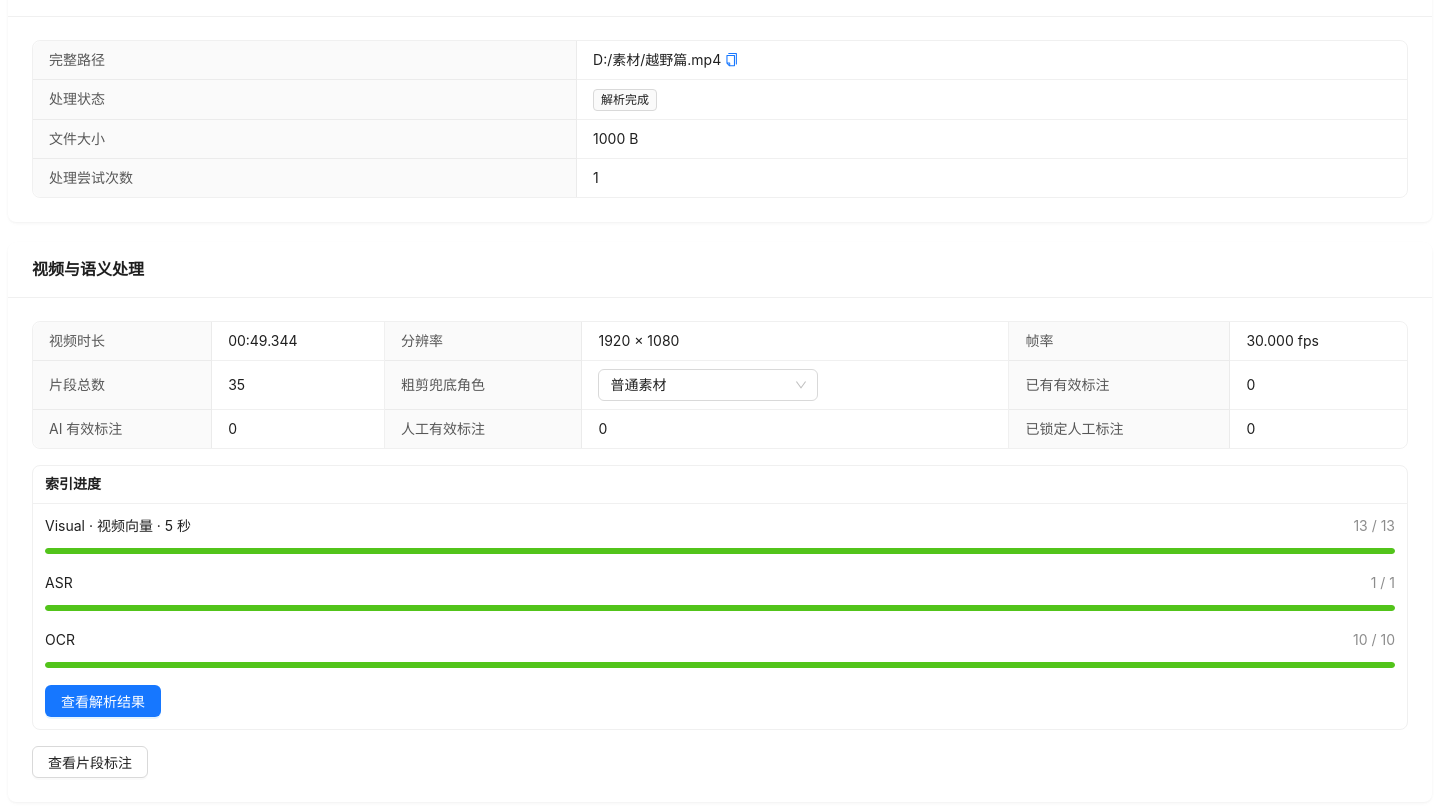
Test: index results › opens from current progress and loads only selected source/pages; retains raw OCR as text
The image size is (1440, 810).
(page scrolled)
Check: the text "13 / 13" is shown, box [1353, 517, 1395, 534]
Check: the text "1 / 1" is shown, box [1371, 574, 1395, 591]
What coordinates should you click on to do the following:
click the link "查看解析结果"
I would click on:
 (103, 701)
Its box is [45, 685, 161, 717].
(page scrolled)
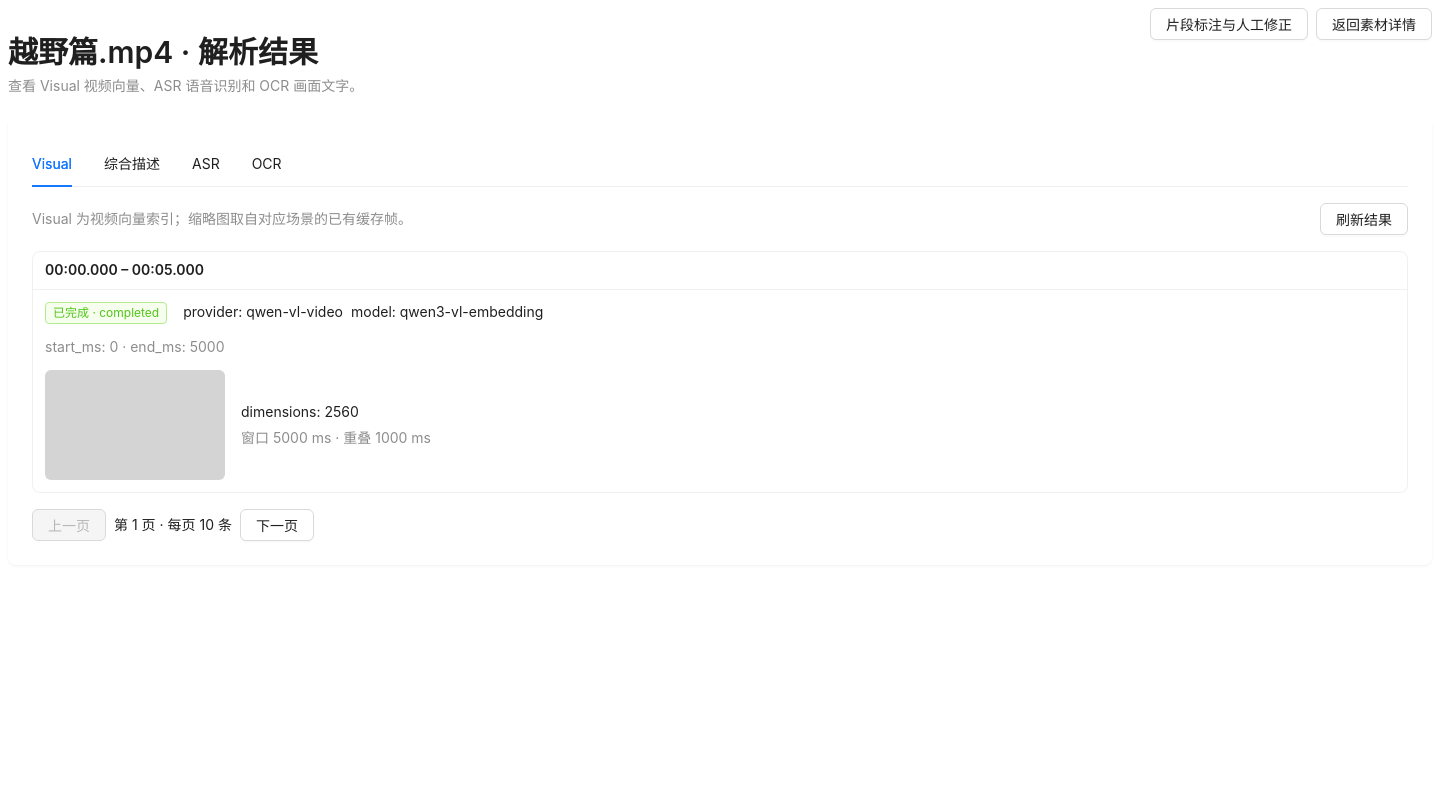
Check: the text "dimensions: 2560" is shown, box [241, 403, 359, 420]
What coordinates should you click on to do the following:
click the button "下一页"
I would click on:
 (277, 525)
Its box is [240, 509, 314, 541].
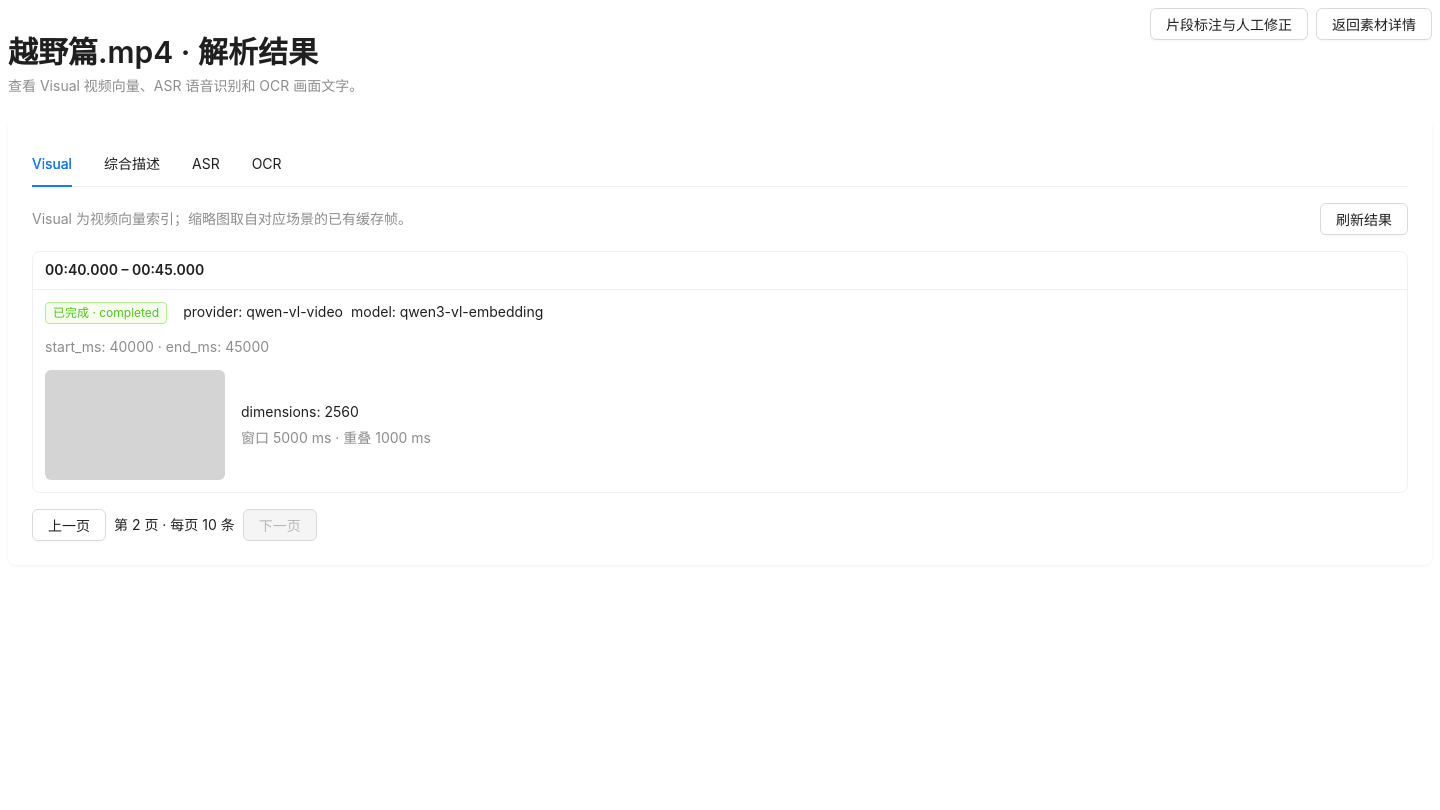
What coordinates should you click on to do the following:
click the tab "综合描述"
I would click on:
 (132, 164)
Its box is [104, 153, 160, 175].
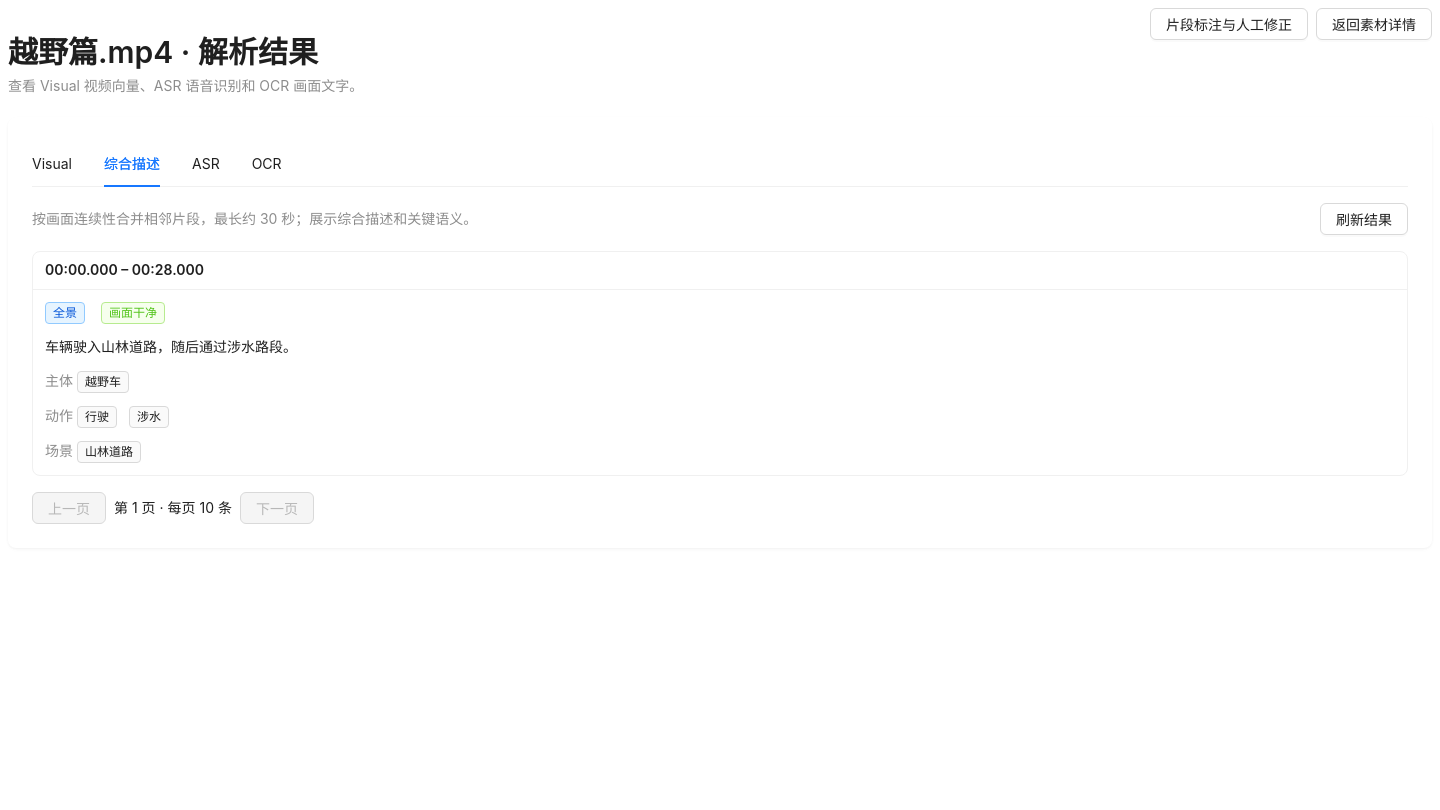
Check: the text "车辆驶入山林道路，随后通过涉水路段。" is shown, box [45, 338, 297, 355]
Check: the text "越野车" is shown, box [77, 371, 129, 393]
Check: the text "涉水" is shown, box [129, 406, 169, 428]
What coordinates should you click on to do the following:
click the tab "ASR"
I would click on:
 (206, 164)
Its box is [192, 153, 220, 175].
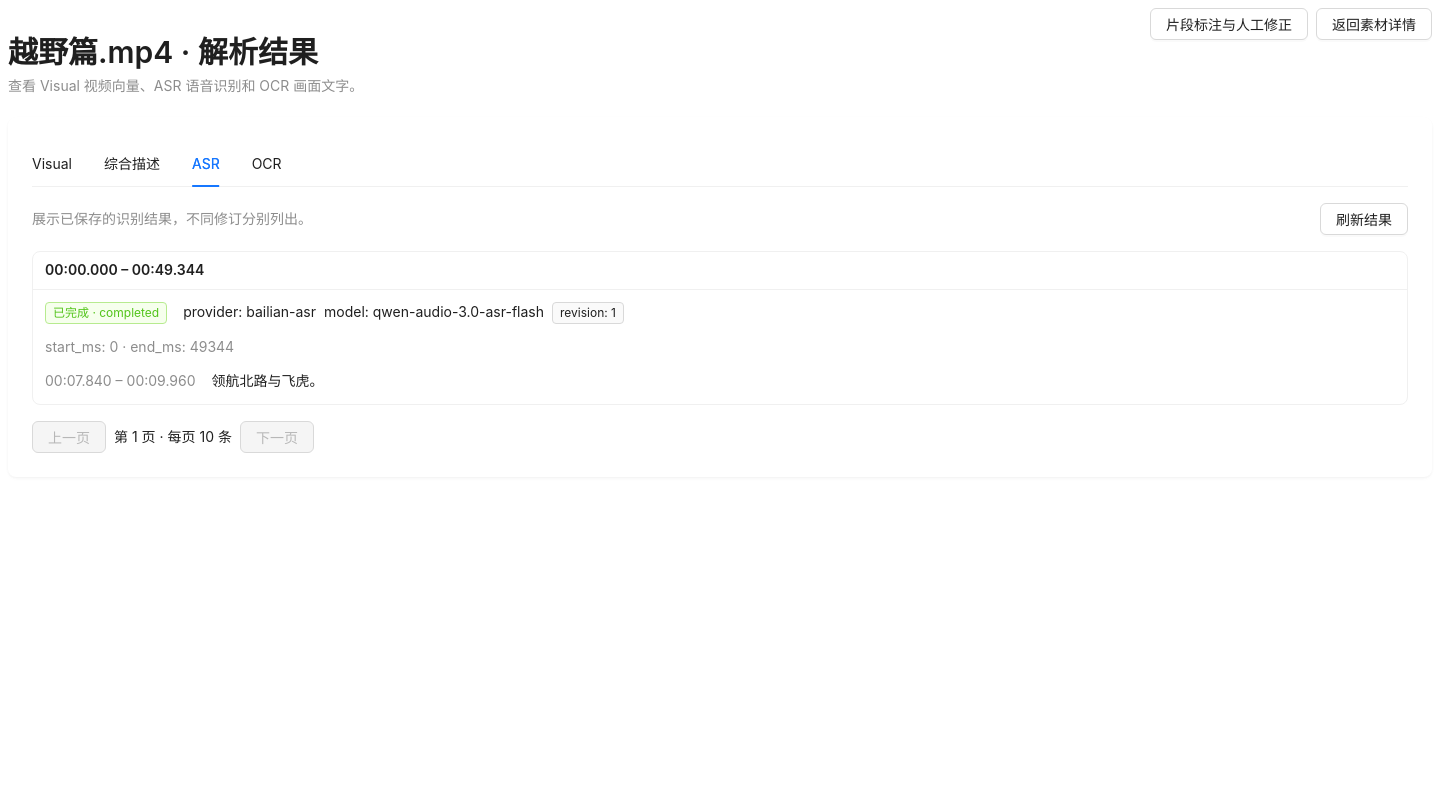
Check: the text "领航北路与飞虎。" is shown, box [212, 370, 324, 392]
Check: the text "00:07.840 – 00:09.960" is shown, box [45, 370, 196, 392]
What coordinates should you click on to do the following:
click the tab "OCR"
I would click on:
 (267, 164)
Its box is [252, 153, 282, 175].
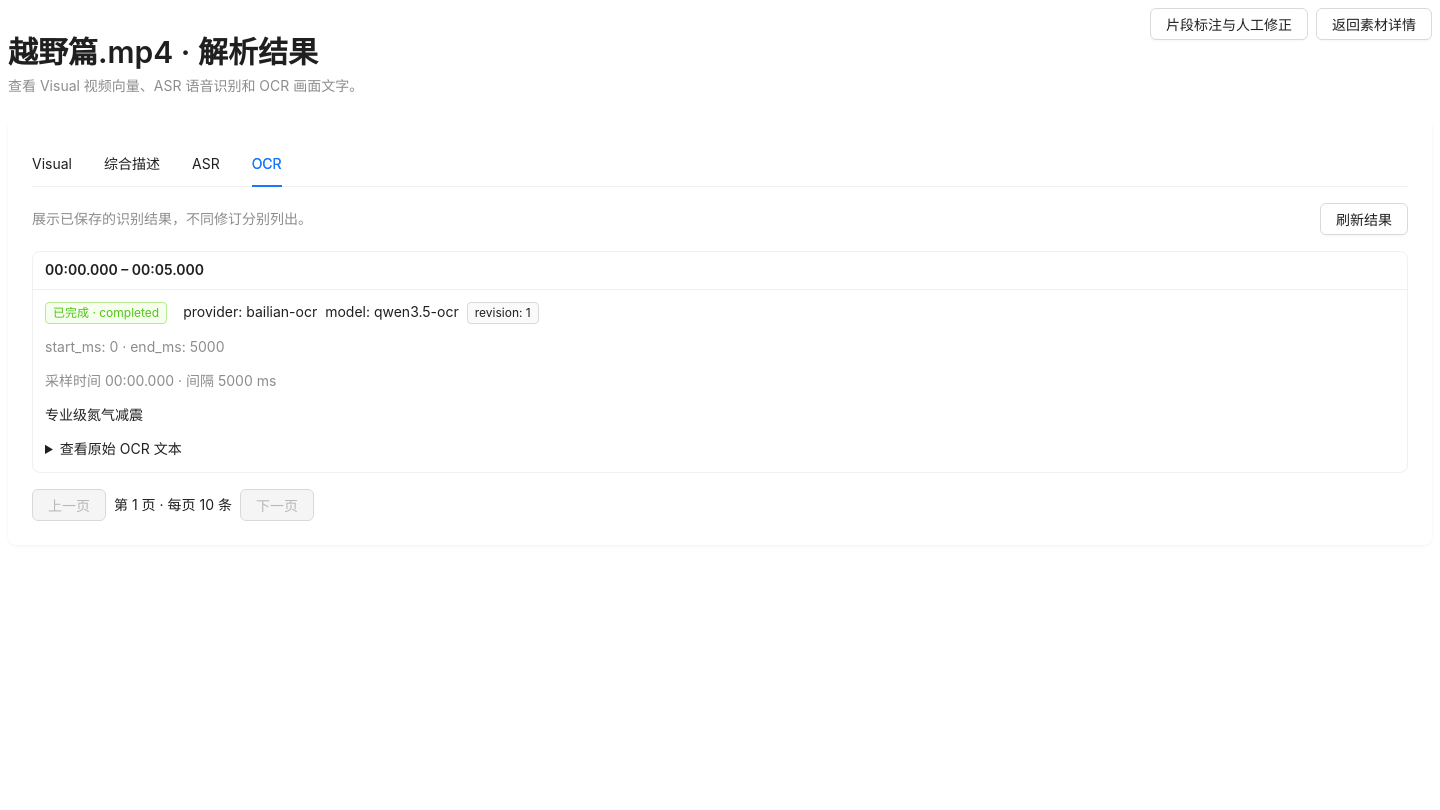
Check: the text "<p>专业级氮气减震</p><script>alert(1)</script>" is not shown
Check: the text "专业级氮气减震" is shown, box [45, 406, 143, 423]
What coordinates should you click on to do the following:
click the heading "查看原始 OCR 文本"
I would click on:
 (121, 448)
Its box is [60, 440, 182, 457].
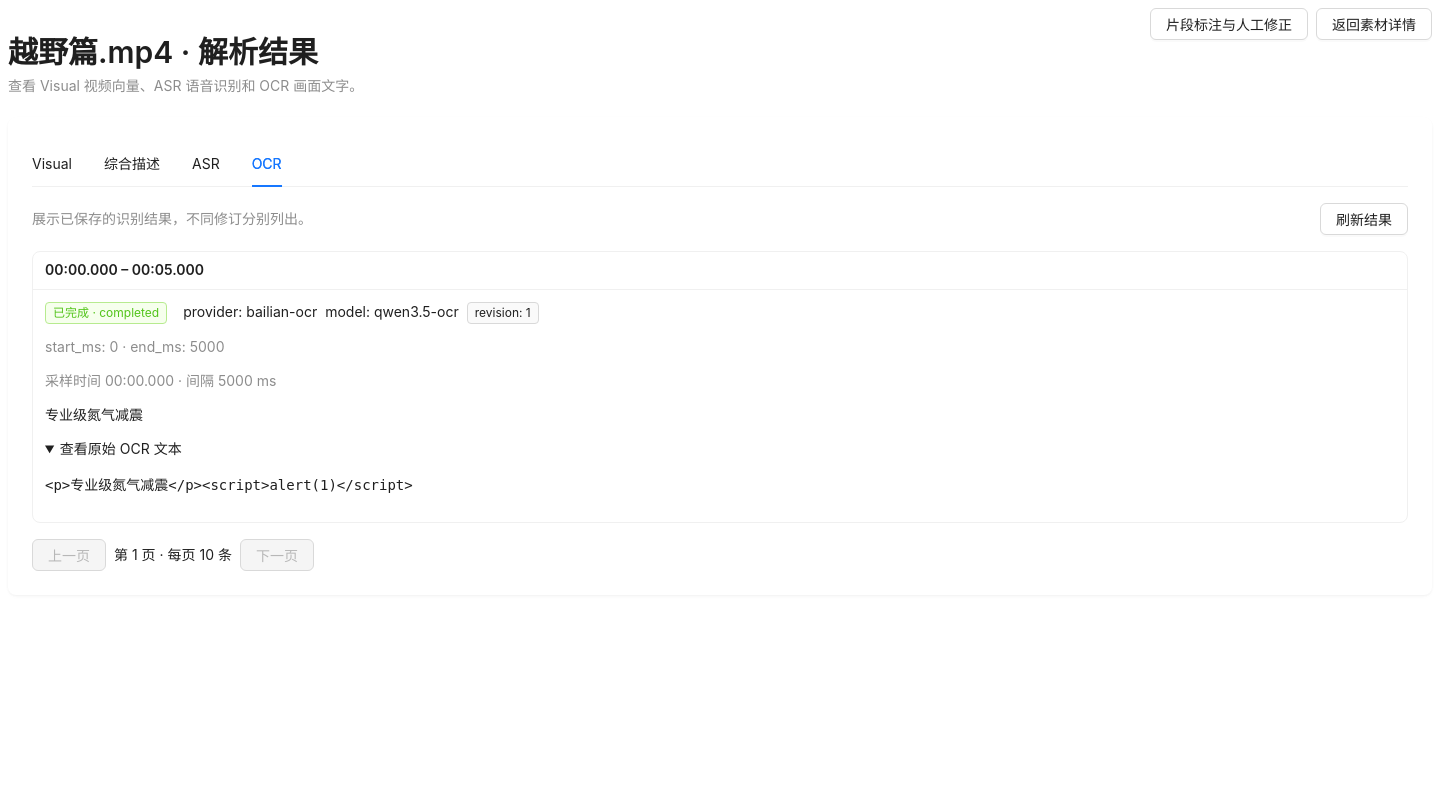
Check: the button "下一页" is disabled, box [240, 539, 314, 571]
Check: the link "片段标注与人工修正" is shown, box [1150, 16, 1308, 33]
Check: the text "<p>专业级氮气减震</p><script>alert(1)</script>" is shown, box [45, 477, 413, 493]
